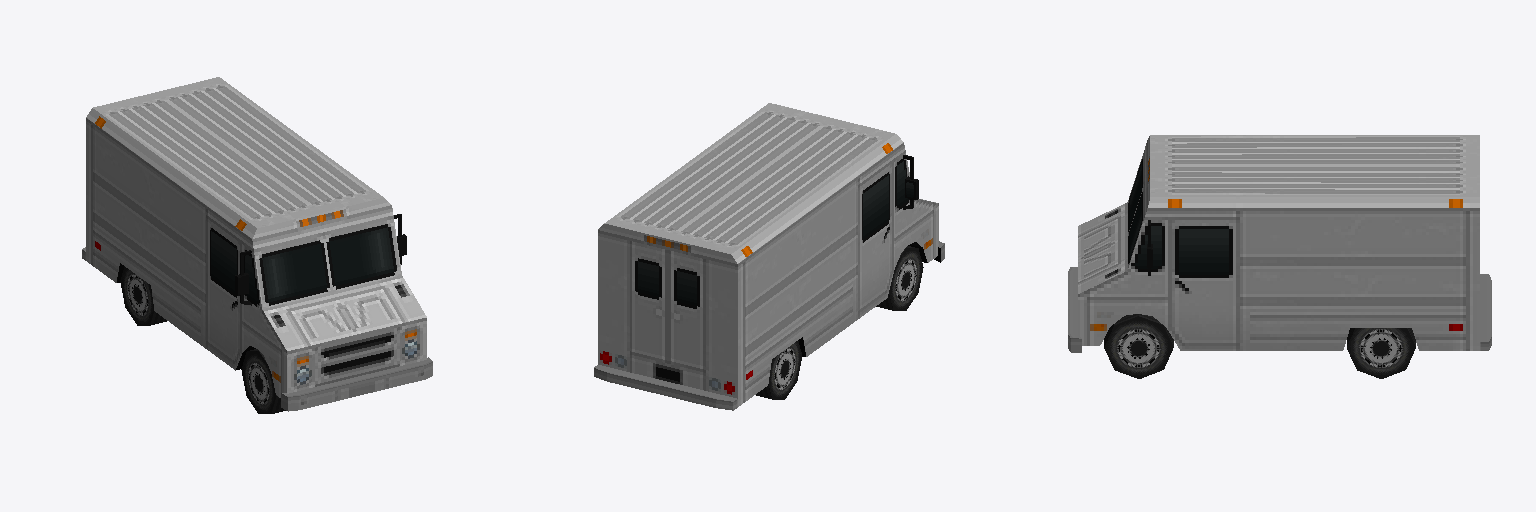
3 renders of one model, left to right at view 1: azimuth 30°, elevation 25°; view 2: azimuth 150°, elevation 25°; view 3: azimuth 270°, elevation 25°, orthographic.
Visible parts, largest first — view 1: Car8; view 2: Car8; view 3: Car8.
Part boxes in pixels (bbox=[...]): Car8: bbox=[82, 77, 432, 413]; Car8: bbox=[594, 103, 944, 410]; Car8: bbox=[1068, 135, 1491, 378].
Bounding box in the file's own units: 3.17 × 3.23 × 6.89.
1 materials, 1 textured.